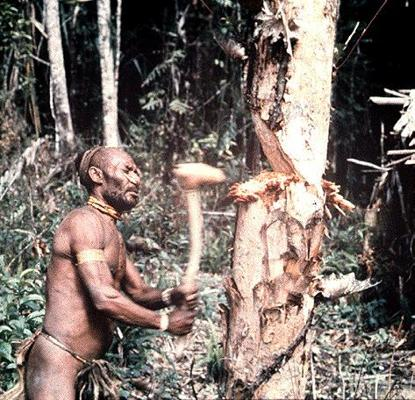person: (25, 146, 199, 400)
